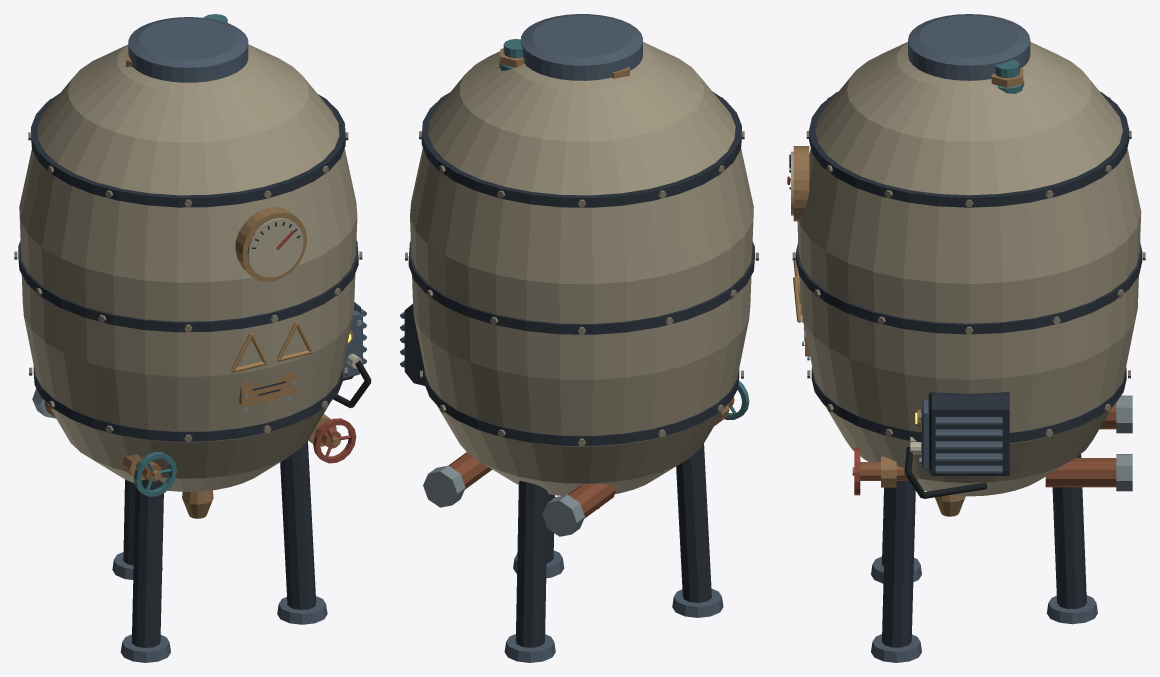
File: A-04_boiler.glb
3 views of the same model, side by side, from view 1: azimuth 30°, elevation 25°; view 2: azimuth 150°, elevation 25°; view 3: azimuth 270°, elevation 25° (orthographic).
Parts seen in each view (by area): view 1: A-04_boiler; view 2: A-04_boiler; view 3: A-04_boiler.
Part boxes in pixels (box(x1,y1,x2,y2)): A-04_boiler: box(14, 14, 371, 662); A-04_boiler: box(400, 14, 758, 662); A-04_boiler: box(787, 14, 1145, 662).
Size of the model in its own units: 0.9595 by 1.67 by 0.938.
